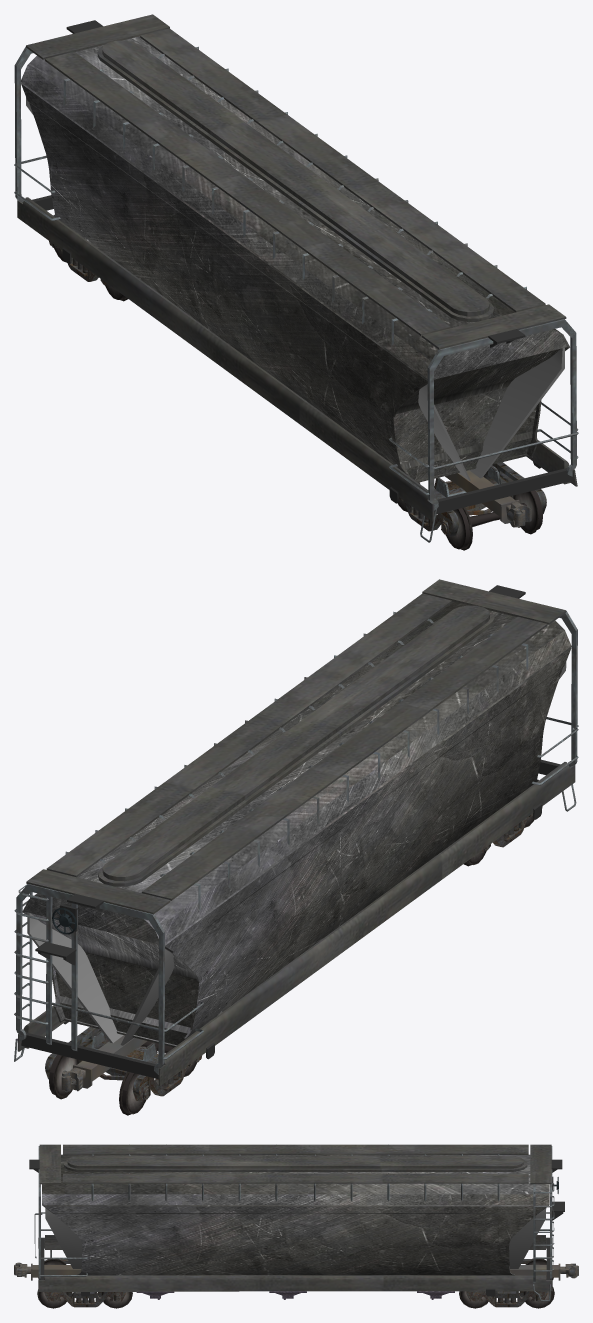
Rendered from TrainCabin_1.FBX.
3 views of the same model, one above another, from view 1: azimuth 30°, elevation 25°; view 2: azimuth 150°, elevation 25°; view 3: azimuth 270°, elevation 25° (orthographic). The views are drawn at different scales.
Parts seen in each view (by area): view 1: Body, Wheel_B 2; view 2: Body, Wheel_F 1; view 3: Body, Wheel_F 1, Wheel_B 2, Wheel_B 1, Wheel_F 2.
Part boxes in pixels (x1,y1,x2,y2): Body: (14, 14, 578, 542); Wheel_B 2: (445, 490, 542, 550); Body: (14, 579, 578, 1102); Wheel_F 1: (49, 1054, 146, 1115); Body: (14, 1144, 578, 1307); Wheel_F 1: (523, 1259, 554, 1308); Wheel_B 2: (37, 1259, 68, 1308); Wheel_B 1: (101, 1292, 132, 1308); Wheel_F 2: (459, 1291, 488, 1308).
Bounding box in the file's own units: 61.74 × 84.88 × 317.
2 materials, 2 textured.
